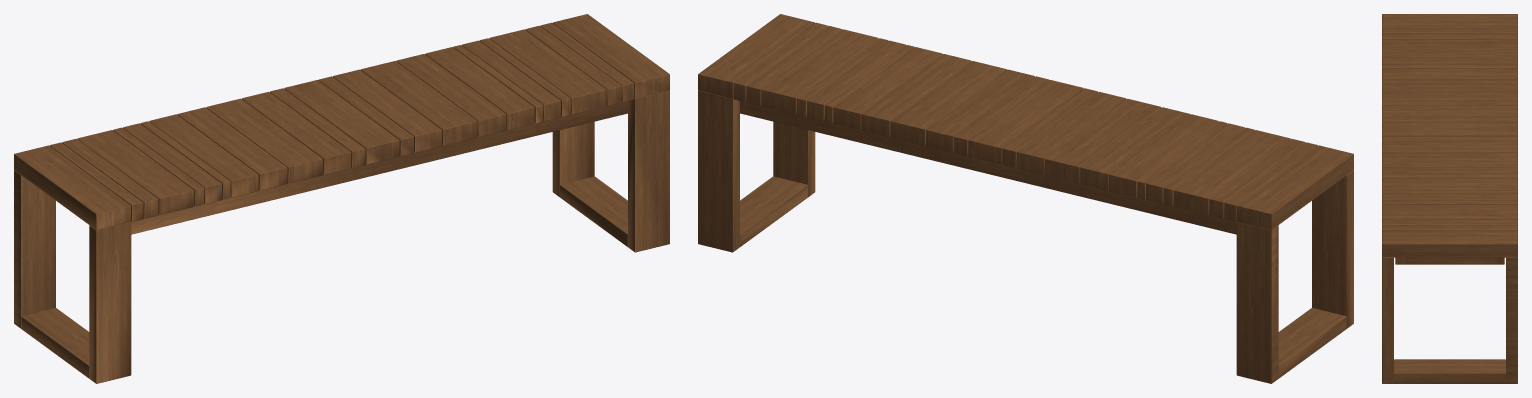
File: Banca.obj
The picture shows the model from 3 angles, left to right: view 1: azimuth 30°, elevation 25°; view 2: azimuth 150°, elevation 25°; view 3: azimuth 270°, elevation 25°; orthographic projection. The views are drawn at different scales.
Visible parts, largest first — view 1: Object_10, Object_7, Object_12; view 2: Object_10, Object_7, Object_12; view 3: Object_10, Object_7, Object_12.
Part boxes in pixels (x1,y1,x2,y2): Object_10: (14, 14, 669, 230); Object_7: (14, 90, 669, 383); Object_12: (131, 101, 627, 234); Object_10: (698, 14, 1353, 230); Object_7: (698, 90, 1353, 383); Object_12: (740, 101, 1236, 234); Object_10: (1382, 14, 1517, 257); Object_7: (1382, 257, 1517, 383); Object_12: (1395, 257, 1504, 264).
Size of the model in its own units: 1.61 by 0.455 by 0.3997.
1 material, 1 textured.
